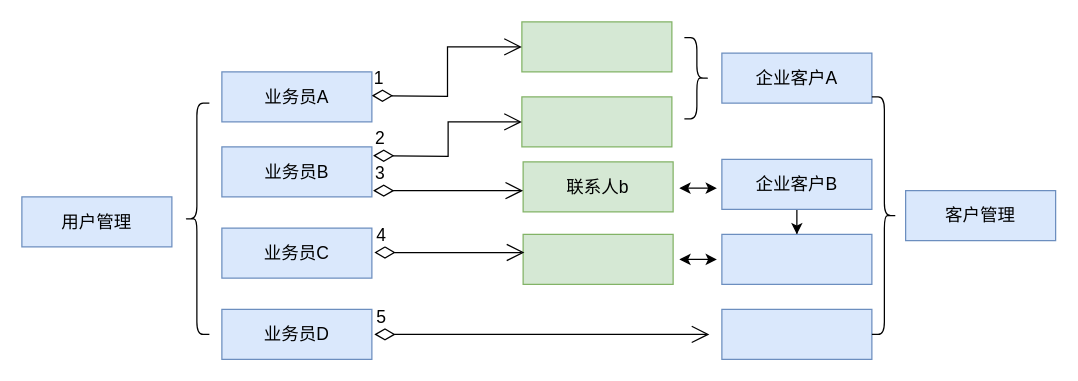
This 1078x381 diagram has some shape labels left out. The shapes that lost their labels are listed below. From the top down, each one's box as (x1, y1, x2, y2) in pixels, then its label:
(521, 21, 672, 72): 联系人a
(521, 96, 672, 147): 联系人f
(522, 233, 673, 284): 联系人c
(721, 233, 872, 284): 企业客户C
(721, 308, 872, 359): 个人客户D
